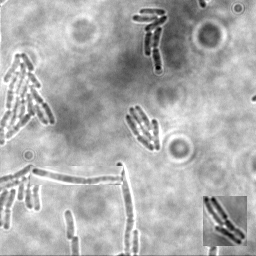Dividing: (114, 161, 133, 255), (30, 166, 123, 185)
Microcolony: (1, 51, 56, 147), (1, 162, 44, 231), (130, 8, 167, 72), (203, 196, 247, 246), (124, 106, 160, 153), (63, 208, 74, 240)
